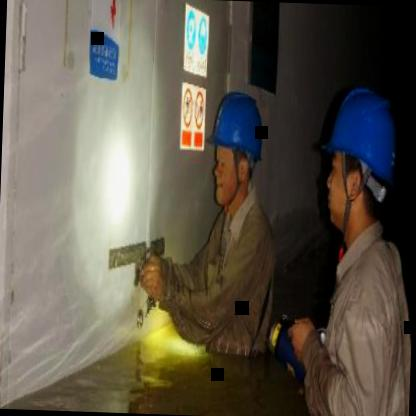helmet: (314, 76, 400, 240), (207, 76, 268, 212)
